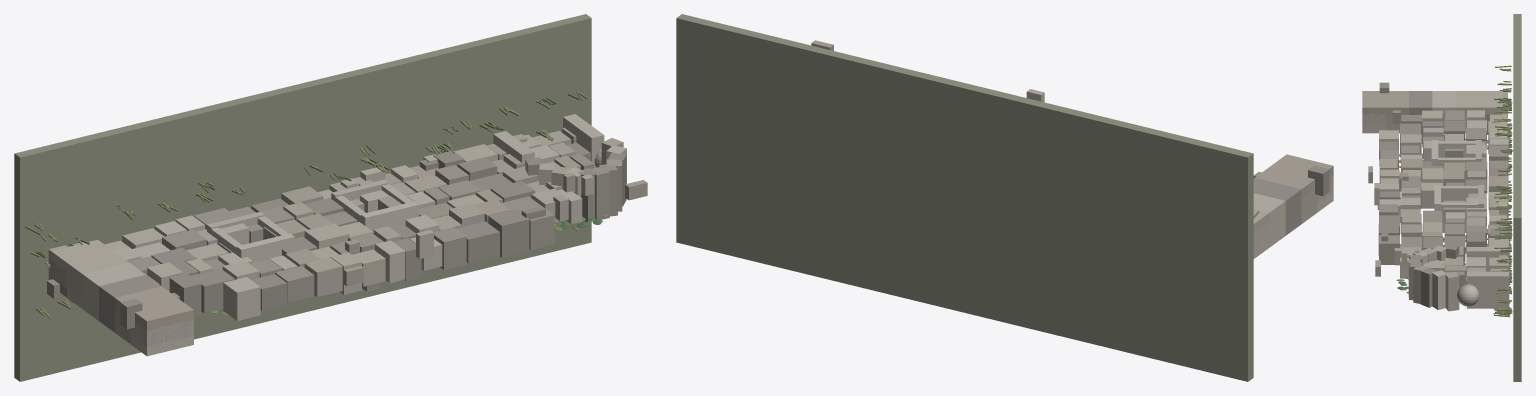
File: kuenstliche_ruine_weimar_game_ready.glb
The picture shows the model from 3 angles, left to right: view 1: azimuth 30°, elevation 25°; view 2: azimuth 150°, elevation 25°; view 3: azimuth 270°, elevation 25°; orthographic projection. The views are drawn at different scales.
Visible parts, largest first — view 1: terrain base_0, left tall masonry pier_119, left tall masonry pier_118, individual limestone block c5_106, individual limestone block c5_95, individual limestone block c5_105, left tall masonry pier_111, left tall masonry pier_109, individual limestone block c5_98, individual limestone block c4_78, stone lintel_126, left tall masonry pier_113 (+24 smaller); view 2: terrain base_0, left tall masonry pier_117, left tall masonry pier_115, left tall masonry pier_119, left tall masonry pier_113; view 3: terrain base_0, pointed arch jamb_129, left tall masonry pier_119, left tall masonry pier_117, left tall masonry pier_109, individual pointed-arch voussoir_130, left tall masonry pier_115, individual pointed-arch voussoir_131, left tall masonry pier_113, left tall masonry pier_111, carved window jamb_124, individual limestone block c5_107 (+83 smaller).
Boxes of the visible parts, left/top/right/bottom form: terrain base_0: left=14, top=14, right=591, bottom=381; left tall masonry pier_119: left=133, top=298, right=193, bottom=346; left tall masonry pier_118: left=131, top=319, right=193, bottom=356; individual limestone block c5_106: left=488, top=209, right=529, bottom=257; individual limestone block c5_95: left=223, top=277, right=260, bottom=320; individual limestone block c5_105: left=456, top=221, right=499, bottom=263; left tall masonry pier_111: left=67, top=251, right=129, bottom=299; left tall masonry pier_109: left=51, top=239, right=113, bottom=287; individual limestone block c5_98: left=304, top=257, right=342, bottom=296; individual limestone block c4_78: left=191, top=268, right=235, bottom=313; stone lintel_126: left=361, top=201, right=418, bottom=231; left tall masonry pier_113: left=83, top=263, right=145, bottom=310; terrain base_0: left=676, top=14, right=1253, bottom=381; left tall masonry pier_117: left=1255, top=166, right=1317, bottom=213; left tall masonry pier_115: left=1253, top=178, right=1301, bottom=224; left tall masonry pier_119: left=1271, top=154, right=1333, bottom=202; left tall masonry pier_113: left=1253, top=193, right=1285, bottom=236; terrain base_0: left=1513, top=14, right=1521, bottom=381; pointed arch jamb_129: left=1467, top=271, right=1509, bottom=308; left tall masonry pier_119: left=1362, top=91, right=1385, bottom=126; left tall masonry pier_117: left=1385, top=91, right=1408, bottom=126; left tall masonry pier_109: left=1479, top=91, right=1502, bottom=125; individual pointed-arch voussoir_130: left=1445, top=272, right=1459, bottom=311; left tall masonry pier_115: left=1409, top=91, right=1432, bottom=114; individual pointed-arch voussoir_131: left=1432, top=270, right=1445, bottom=309; left tall masonry pier_113: left=1432, top=91, right=1455, bottom=125; left tall masonry pier_111: left=1455, top=91, right=1478, bottom=125; carved window jamb_124: left=1441, top=186, right=1478, bottom=202; individual limestone block c5_107: left=1379, top=235, right=1399, bottom=264.
Bounding box in the file's own units: 12.8 × 4.8 × 4.23.
